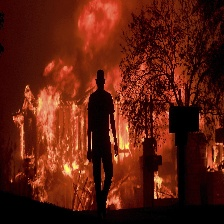fire: (20, 84, 80, 159), (112, 105, 146, 154), (56, 153, 89, 176), (154, 172, 170, 198), (109, 191, 122, 204)
